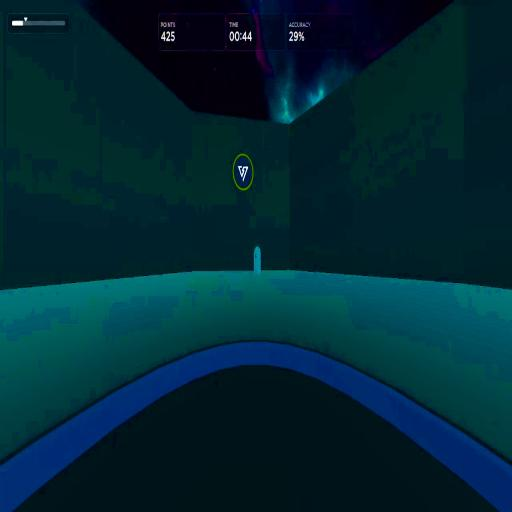Crosshair: (256, 254, 258, 258)
Target: (254, 245, 261, 276)
